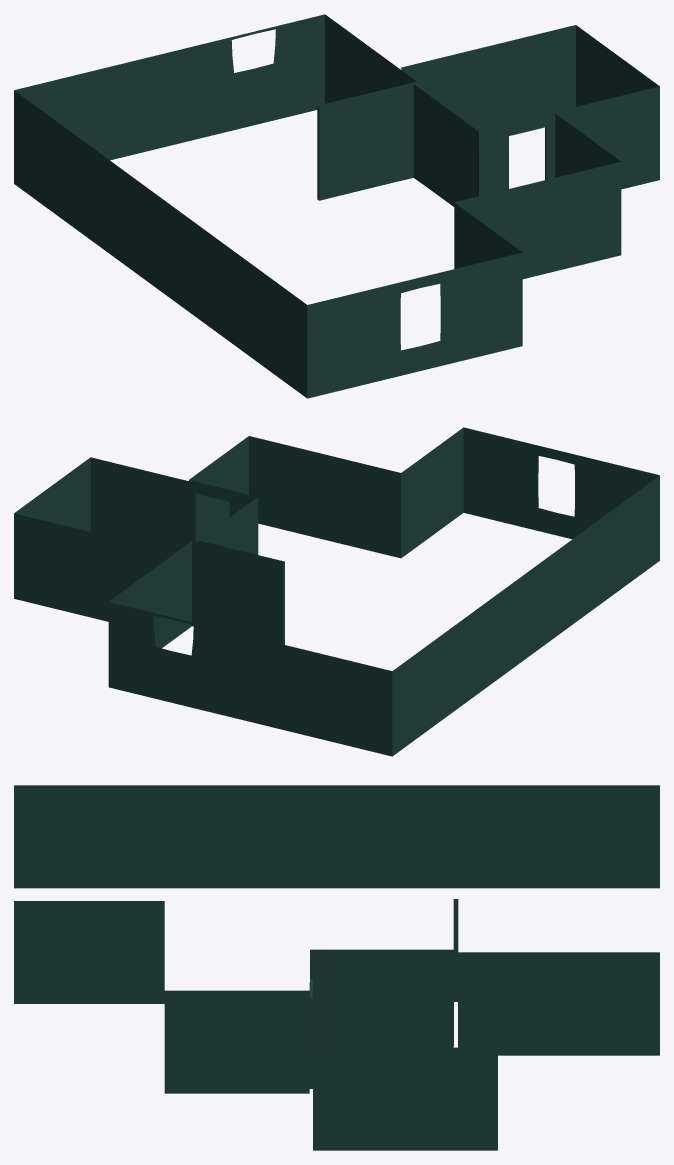
The model's file is SM_House_Outer_Walls.fbx.
The picture shows the model from 3 angles, top to bottom: view 1: azimuth 30°, elevation 25°; view 2: azimuth 150°, elevation 25°; view 3: azimuth 270°, elevation 25°; orthographic projection. The views are drawn at different scales.
Visible parts, largest first — view 1: SM_House_Outer_Walls_LOD0; view 2: SM_House_Outer_Walls_LOD0; view 3: SM_House_Outer_Walls_LOD0.
Part boxes in pixels (x1=…): SM_House_Outer_Walls_LOD0: x1=14, y1=14, x2=659, y2=398; SM_House_Outer_Walls_LOD0: x1=14, y1=427, x2=659, y2=756; SM_House_Outer_Walls_LOD0: x1=14, y1=785, x2=659, y2=1150.
Size of the model in its own units: 1894 by 1970 by 347.
